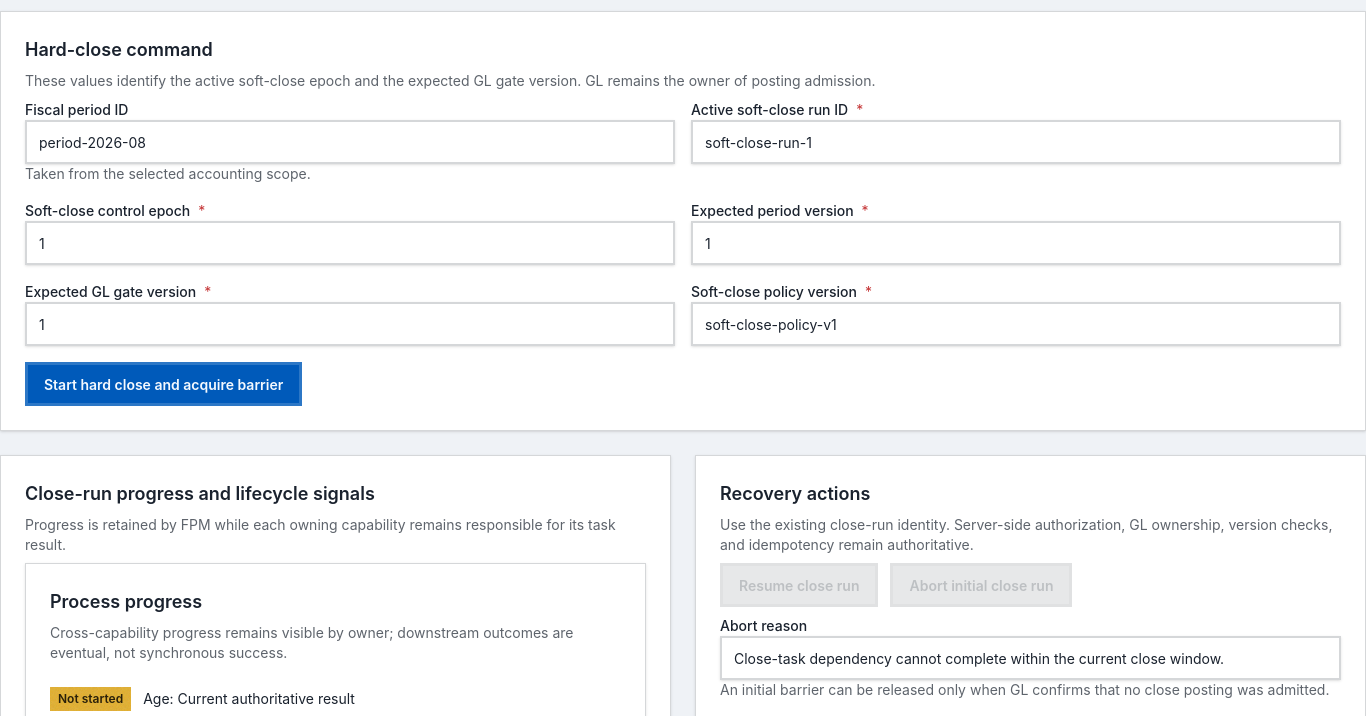
Scenario: fiscal-period hard-close workspace › keeps the period restrictive and explains dependency unavailability
This screenshot has width=1366, height=716.
(page scrolled)
Click the button "Start hard close and acquire barrier" at (164, 384), box [25,362,302,406]
(page scrolled)
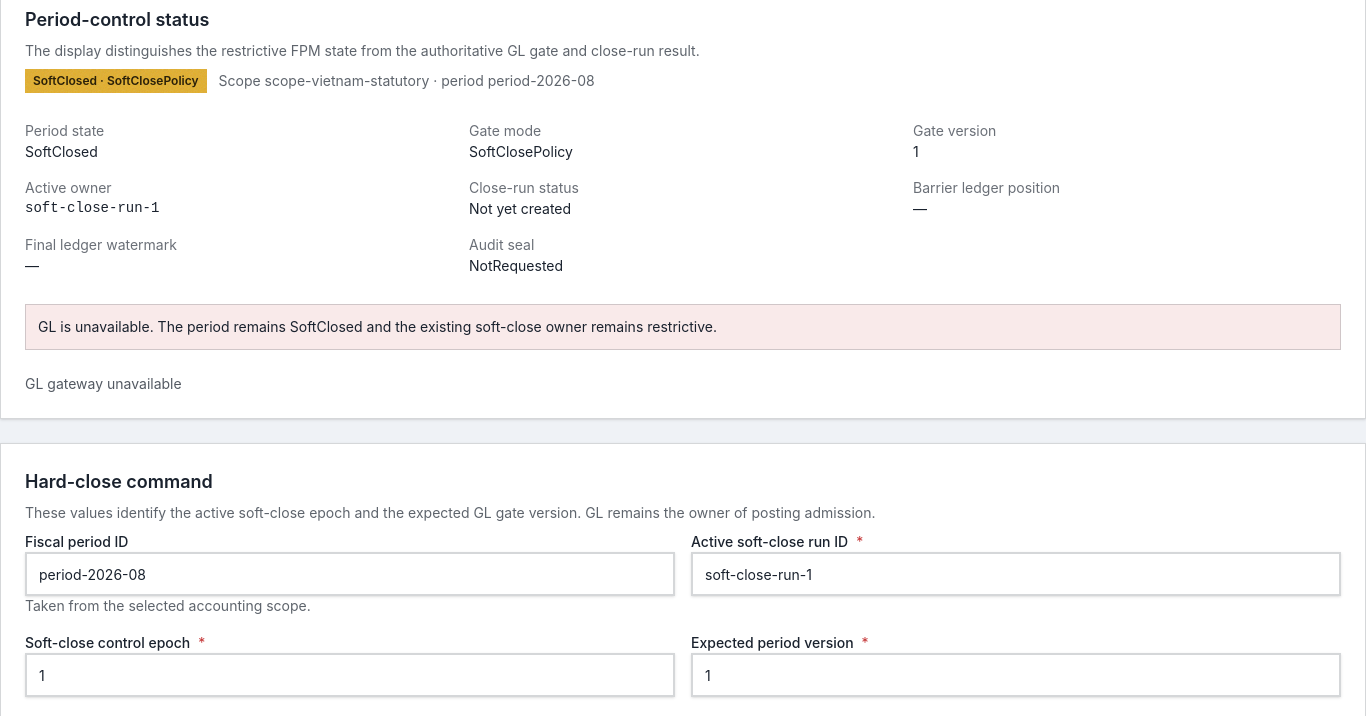
Expected: the message "SoftClosed · SoftClosePolicy" is shown, [25,69,206,93]
Now the 2nd message shows "remains SoftClosed", box [38,318,717,335]
Now the text "GL gateway unavailable" is shown, box [25,375,182,392]
